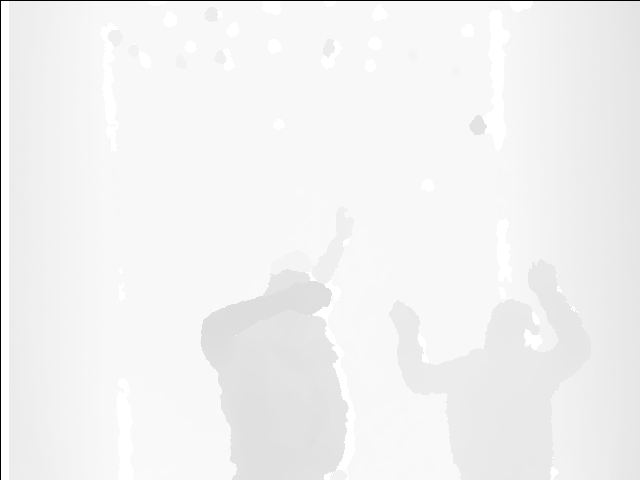hand: (524, 254, 562, 293), (333, 206, 356, 240)
